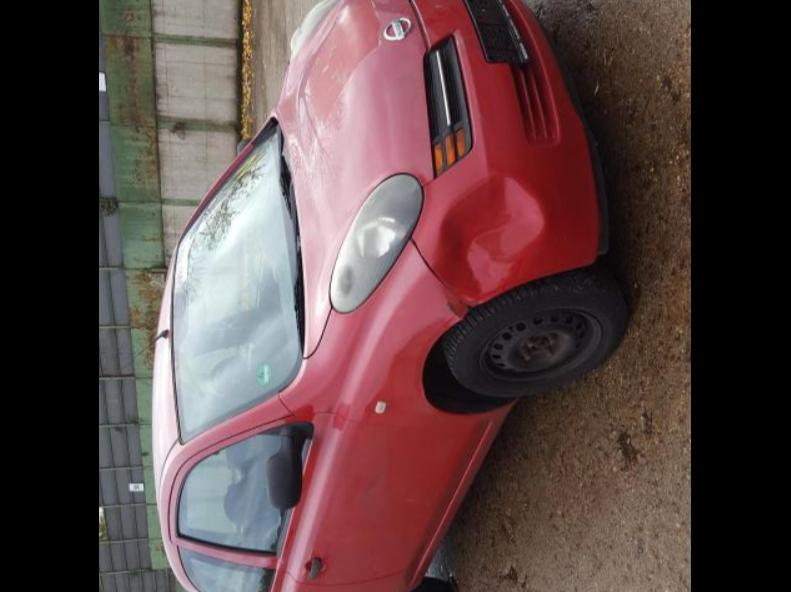Corrosion: (448, 288, 476, 312), (446, 300, 466, 320), (459, 298, 476, 310)
Dent: (426, 162, 558, 300), (436, 290, 473, 324)
Flaking: (296, 0, 388, 152)
Missing part: (468, 0, 524, 56)
